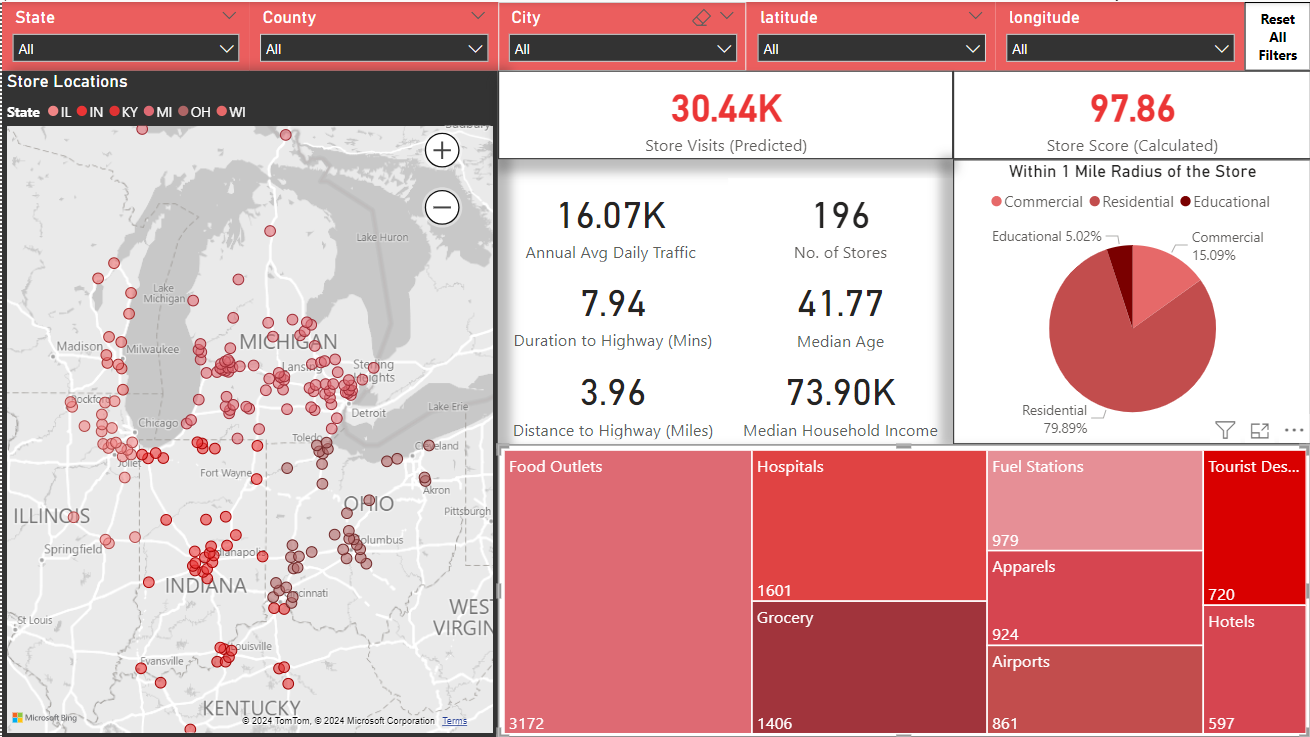

The page's visual inventory and layout, read from the dashboard file:
{"tool":"powerbi","page":{"name":"Final","canvas":[1280,720],"ordinal":1},"visuals":[{"type":"slicer","fields":{"Values":["Meijer_Dataset.latitude"]},"box":[882,68.7,198.3,67],"z":0},{"type":"slicer","fields":{"Values":["Meijer_Dataset.longitude"]},"box":[1081.7,68.7,198.3,67],"z":1000},{"type":"slicer","fields":{"Values":["Meijer_Dataset.State"]},"box":[0,68.7,240,67],"z":2000},{"type":"slicer","fields":{"Values":["Meijer_Dataset.County"]},"box":[241.4,68.7,240,67],"z":3000},{"type":"slicer","fields":{"Values":["Meijer_Dataset.City"]},"box":[482.8,68.7,198.3,67],"z":4000},{"type":"card","fields":{"Values":["Avg(Meijer_Dataset.Driving Distance to Nearest Motorway)"]},"box":[492.5,411.6,225.6,86],"z":5000},{"type":"shape","box":[1180.8,9,89,49.6],"z":6000},{"type":"treemap","fields":{"Values":["Sum(Meijer_Dataset.Grocery_Stores_1mile)","Sum(Meijer_Dataset.Food_Outlets_1mile)","Sum(Meijer_Dataset.Fuel_Stations_Car_Wash_1mile)","Sum(Meijer_Dataset.Apparels_3miles)","Sum(Meijer_Dataset.Hospitals_3miles)","Sum(Meijer_Dataset.Airports_5miles)","Sum(Meijer_Dataset.Tourist_Destinations_5miles)","Sum(Meijer_Dataset.Hotels_5miles)"]},"box":[481.1,498,798.9,222],"z":7000},{"type":"card","fields":{"Values":["Avg(Meijer_Dataset.Duration to Nearest Motorway)"]},"box":[492.6,331.4,225.4,80],"z":8000},{"type":"card","fields":{"Values":["Avg(Meijer_Dataset.Traffic (AADT))"]},"box":[492.6,249,225.4,82.3],"z":9000},{"type":"card","fields":{"Values":["Avg(Meijer_Dataset.Median_Age)"]},"box":[739.3,331.3,219.7,86.8],"z":10000},{"type":"card","fields":{"Values":["Avg(Meijer_Dataset.Median_Household_Income)"]},"box":[739.3,410.1,219.7,86.8],"z":11000},{"type":"map","title":"Store Locations","fields":{"Y":["Meijer_Dataset.latitude"],"X":["Meijer_Dataset.longitude"],"Series":["Meijer_Dataset.State"]},"box":[0,136.3,484.5,583.7],"z":12000},{"type":"card","fields":{"Values":["Avg(Meijer_Dataset.visits)"]},"box":[484.5,136.3,238,108.2],"z":13000},{"type":"card","fields":{"Values":["CountNonNull(Meijer_Dataset.StoreID)"]},"box":[738.8,249,220.8,86.8],"z":14000},{"type":"pieChart","title":"Within 1 Mile Radius of the Store","fields":{"Y":["Sum(Meijer_Dataset.Commercial_Housing_1mile)","Sum(Meijer_Dataset.Residential_Housing_1mile)","Sum(Meijer_Dataset.Educational_Institutions_1mile)"]},"box":[981.4,146.5,298.6,351.5],"z":15000},{"type":"card","fields":{"Values":["Median(Meijer_Dataset_3.Heuristic_Score)"]},"box":[729,136.3,237.7,108.2],"z":16000},{"type":"slicer","fields":{"Values":["Meijer_Dataset.StoreID"]},"box":[682.6,68.7,198,67],"z":17000},{"type":"image","box":[0,0,171.3,67.6],"z":18000},{"type":"textbox","box":[171.3,0,1009.6,67.6],"z":19000}]}

Visuals, with their boxes in screenshot pixels (x1, y1, x2, y2), scaled from the page's 1280x720 canvas onto the 1310x737 screenshot:
slicer - Meijer_Dataset.latitude: [903, 70, 1106, 139]
slicer - Meijer_Dataset.longitude: [1107, 70, 1309, 139]
slicer - Meijer_Dataset.State: [0, 70, 246, 139]
slicer - Meijer_Dataset.County: [247, 70, 493, 139]
slicer - Meijer_Dataset.City: [494, 70, 697, 139]
card - Avg(Meijer_Dataset.Driving Distance to Nearest Motorway): [504, 421, 735, 509]
shape: [1208, 9, 1300, 60]
treemap - Sum(Meijer_Dataset.Grocery_Stores_1mile) x Sum(Meijer_Dataset.Food_Outlets_1mile): [492, 510, 1309, 736]
card - Avg(Meijer_Dataset.Duration to Nearest Motorway): [504, 339, 735, 421]
card - Avg(Meijer_Dataset.Traffic (AADT)): [504, 255, 735, 339]
card - Avg(Meijer_Dataset.Median_Age): [757, 339, 981, 428]
card - Avg(Meijer_Dataset.Median_Household_Income): [757, 420, 981, 509]
"Store Locations" map: [0, 140, 496, 736]
card - Avg(Meijer_Dataset.visits): [496, 140, 739, 250]
card - CountNonNull(Meijer_Dataset.StoreID): [756, 255, 982, 344]
"Within 1 Mile Radius of the Store" pieChart: [1004, 150, 1309, 510]
card - Median(Meijer_Dataset_3.Heuristic_Score): [746, 140, 989, 250]
slicer - Meijer_Dataset.StoreID: [699, 70, 901, 139]
image: [0, 0, 175, 69]
textbox: [175, 0, 1209, 69]
